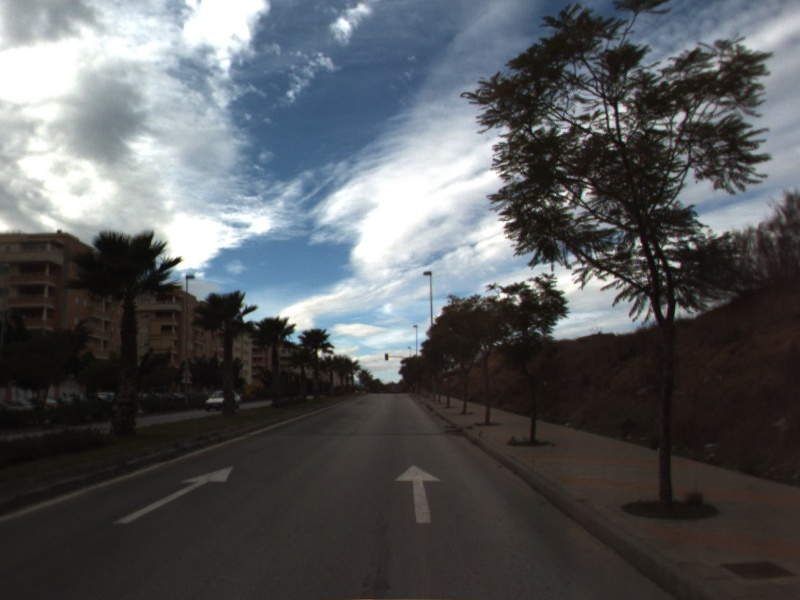STRAIGHT: (112, 463, 236, 526), (393, 462, 444, 525)
